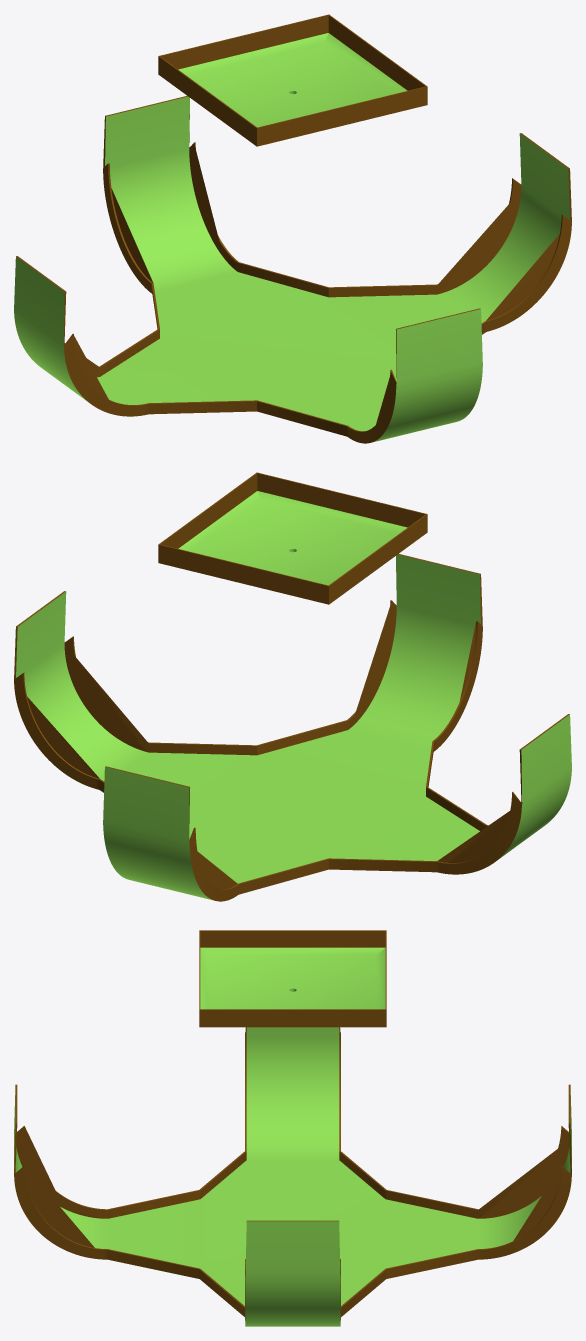
The model's file is hole4.fbx.
The picture shows the model from 3 angles, top to bottom: view 1: azimuth 30°, elevation 25°; view 2: azimuth 150°, elevation 25°; view 3: azimuth 270°, elevation 25°; orthographic projection. The views are drawn at different scales.
Parts seen in each view (by area): view 1: hole4_plane1; view 2: hole4_plane1; view 3: hole4_plane1.
Part boxes in pixels (<box>): hole4_plane1: <box>14,14,571,443</box>; hole4_plane1: <box>14,472,571,901</box>; hole4_plane1: <box>14,930,571,1326</box>.
Bounding box in the file's own units: 302 × 161 × 302.
